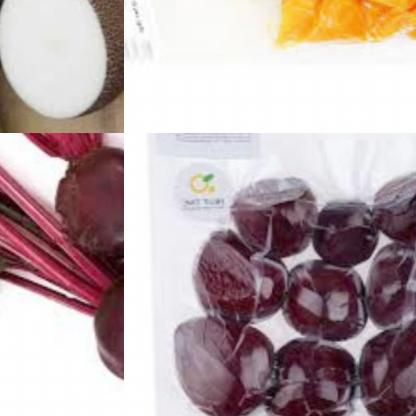beet: (38, 138, 124, 272), (189, 224, 296, 328), (169, 317, 281, 416), (223, 160, 324, 260), (262, 322, 365, 416), (277, 253, 376, 338), (350, 236, 416, 329), (359, 316, 416, 416), (80, 271, 124, 386), (311, 192, 377, 267), (373, 158, 416, 245)
pumpkin: (194, 0, 416, 48)
redka: (0, 0, 124, 121)
